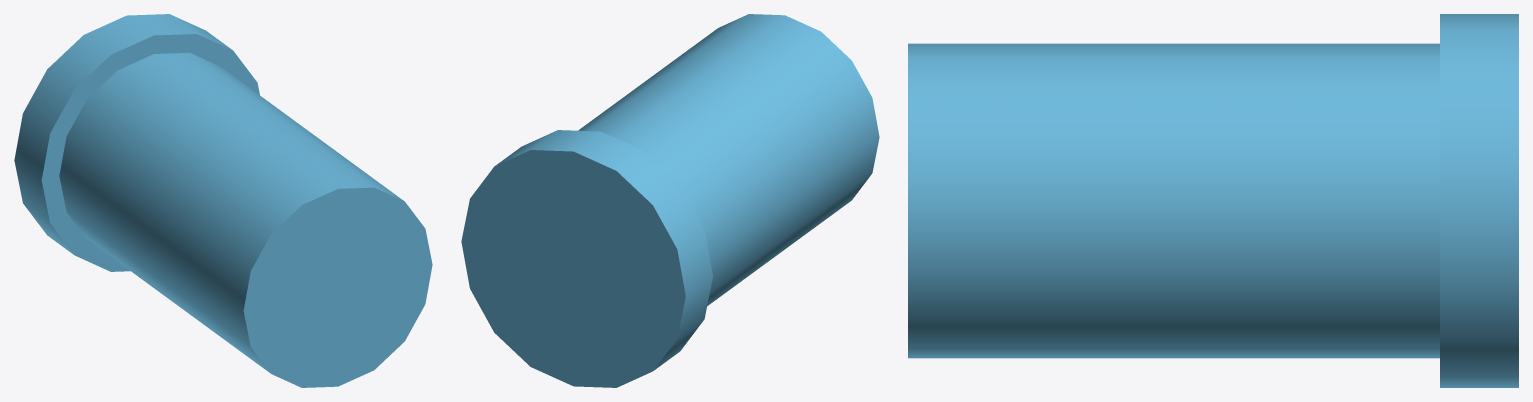
Rendered from pd_laser_lens.glb.
3 renders of one model, left to right at view 1: azimuth 30°, elevation 25°; view 2: azimuth 150°, elevation 25°; view 3: azimuth 270°, elevation 25°, orthographic. The views are drawn at different scales.
Parts seen in each view (by area): view 1: pd_laser_lens; view 2: pd_laser_lens; view 3: pd_laser_lens.
Boxes of the visible parts, bbox=[...] form: pd_laser_lens: bbox=[14, 14, 432, 387]; pd_laser_lens: bbox=[461, 14, 879, 387]; pd_laser_lens: bbox=[908, 14, 1518, 387].
Bounding box in the file's own units: 0.19 × 0.19 × 0.31.
